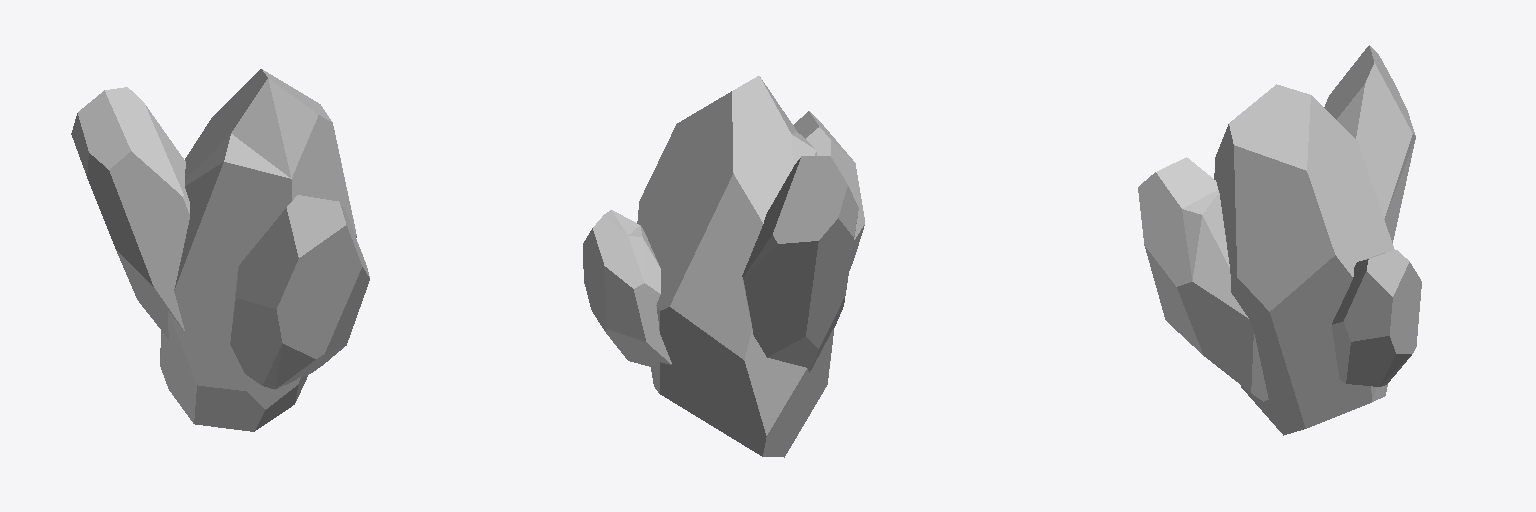
Rendered from crystal.obj.
3 views of the same model, side by side, from view 1: azimuth 30°, elevation 25°; view 2: azimuth 150°, elevation 25°; view 3: azimuth 270°, elevation 25° (orthographic).
Parts seen in each view (by area): view 1: Cube.002_Cube.000; view 2: Cube.002_Cube.000; view 3: Cube.002_Cube.000.
Boxes of the visible parts, <box> form: Cube.002_Cube.000: <box>71,69,369,431</box>; Cube.002_Cube.000: <box>583,76,864,457</box>; Cube.002_Cube.000: <box>1138,45,1421,435</box>.
Bounding box in the file's own units: 1.22 × 1.59 × 1.16.